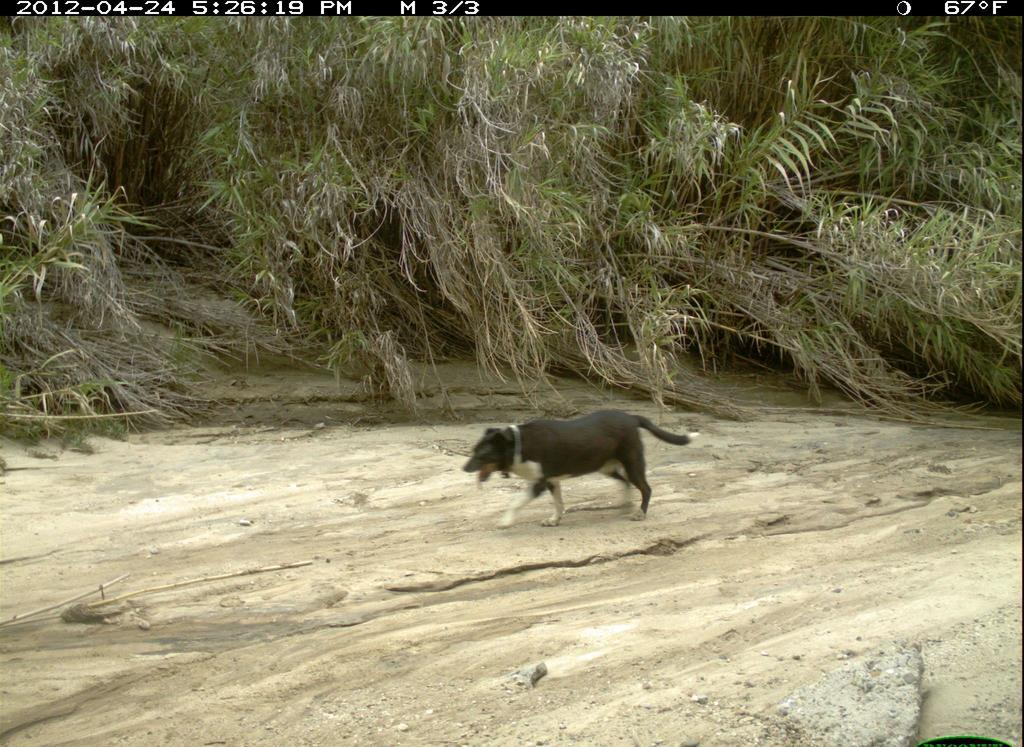dog: (450, 387, 726, 534)
